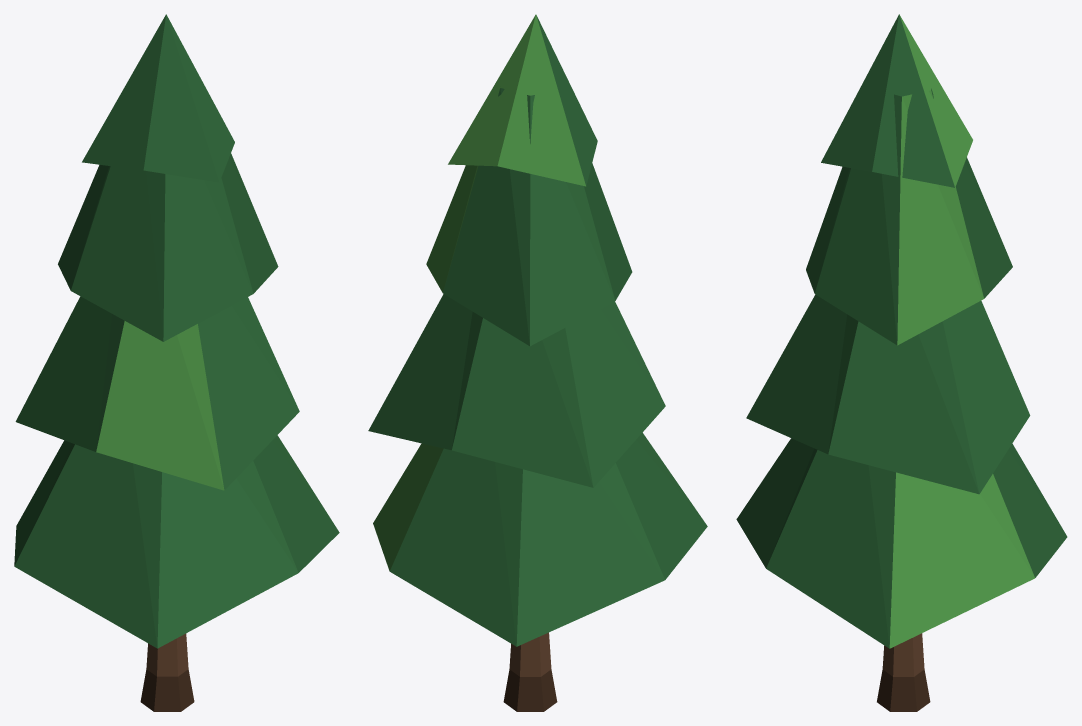
The model's file is tree_pine_b.glb.
3 renders of one model, left to right at view 1: azimuth 30°, elevation 25°; view 2: azimuth 150°, elevation 25°; view 3: azimuth 270°, elevation 25°, orthographic.
Visible parts, largest first — view 1: tree_pine_b__mesh; view 2: tree_pine_b__mesh; view 3: tree_pine_b__mesh.
Part boxes in pixels (x1,y1,x2,y2): tree_pine_b__mesh: (14,14,339,711); tree_pine_b__mesh: (368,14,707,711); tree_pine_b__mesh: (736,14,1067,711).
Size of the model in its own units: 3.92 by 8.35 by 3.65.
2 materials, 2 textured.
